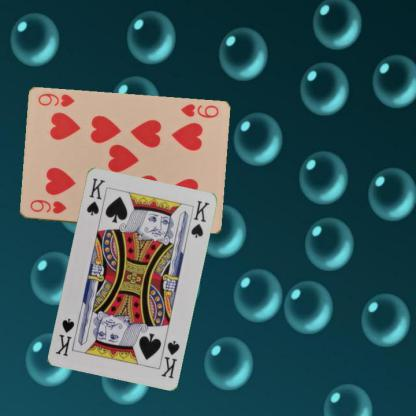9h: (178, 101, 221, 120), (27, 197, 68, 216)
Ks: (158, 338, 181, 380), (84, 175, 106, 217)
